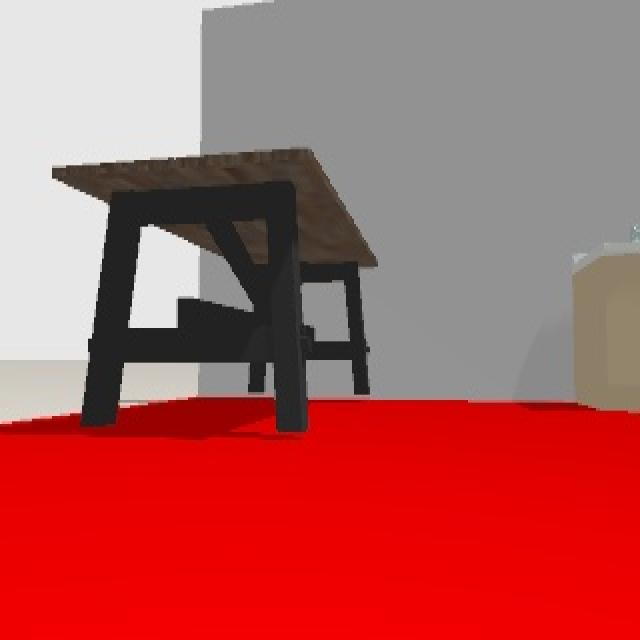dining: (54, 156, 378, 432)
